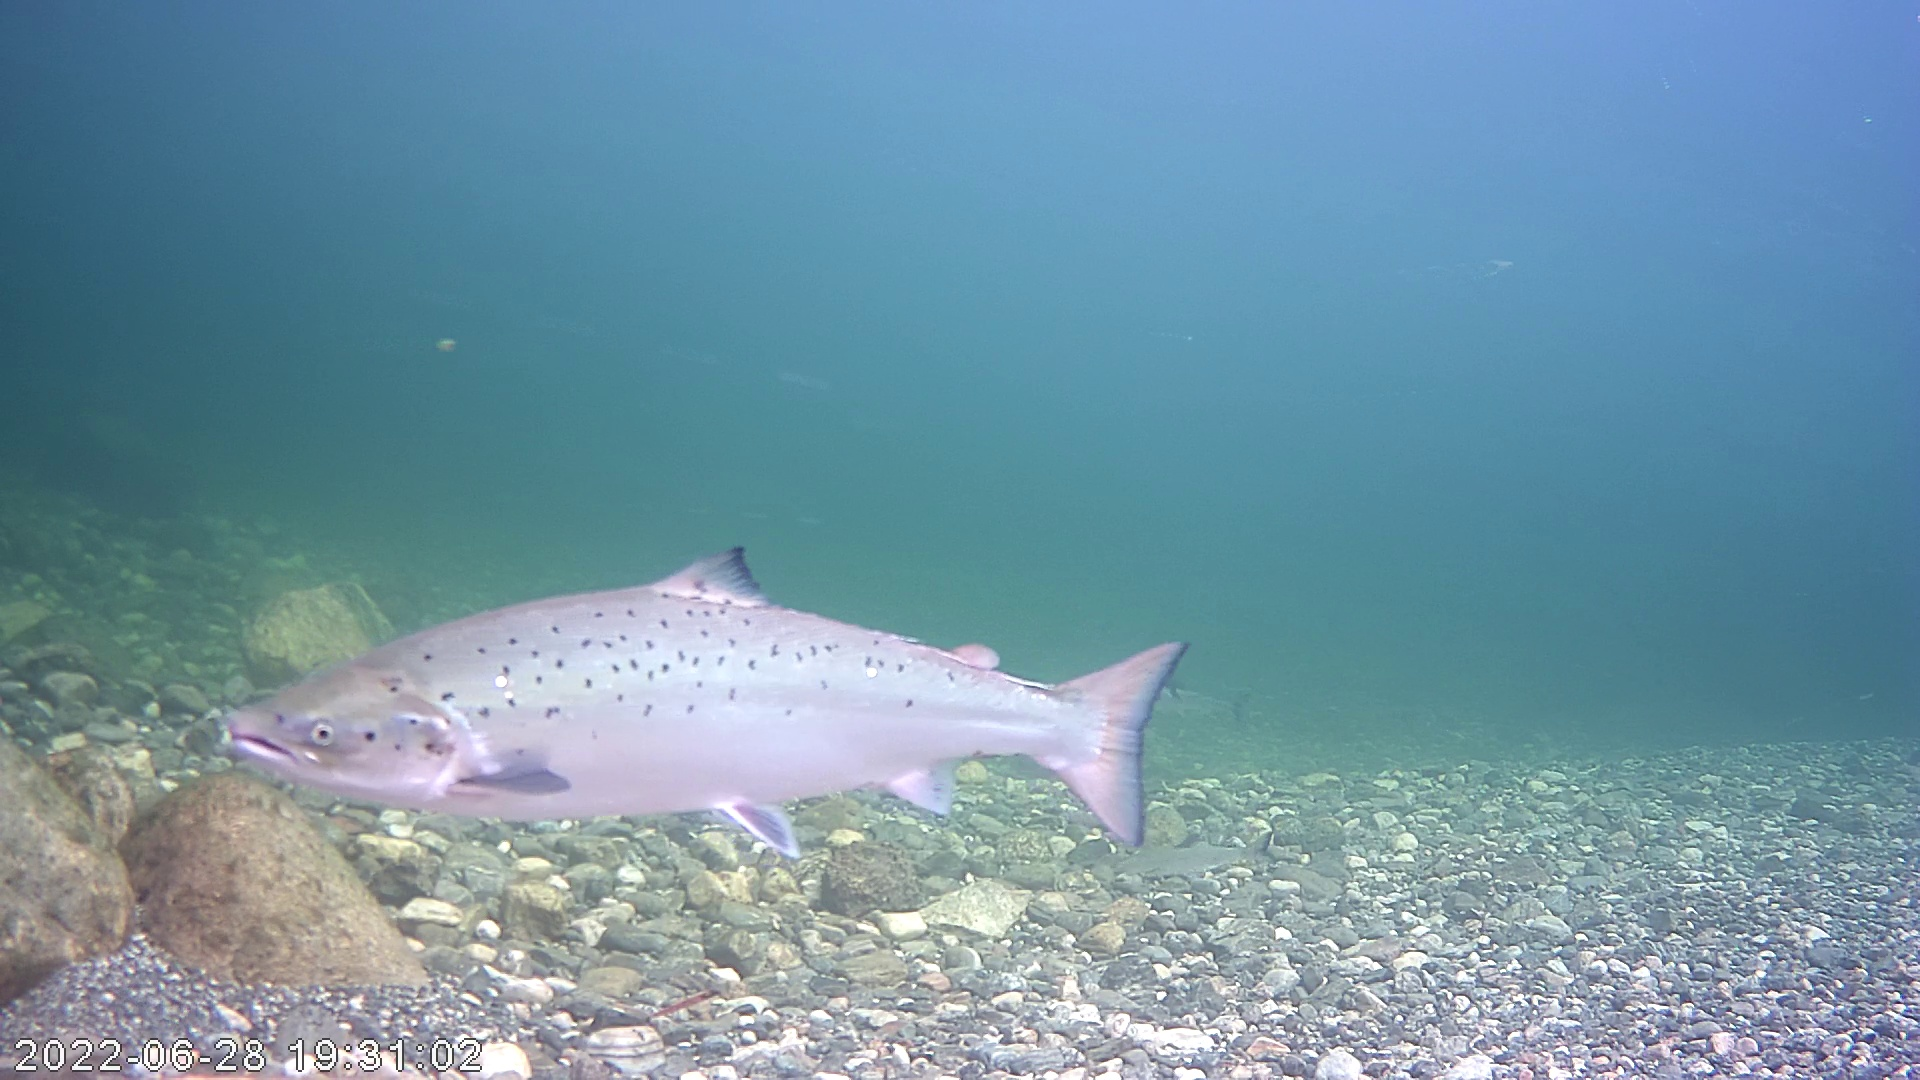salmon: (218, 516, 1193, 876)
